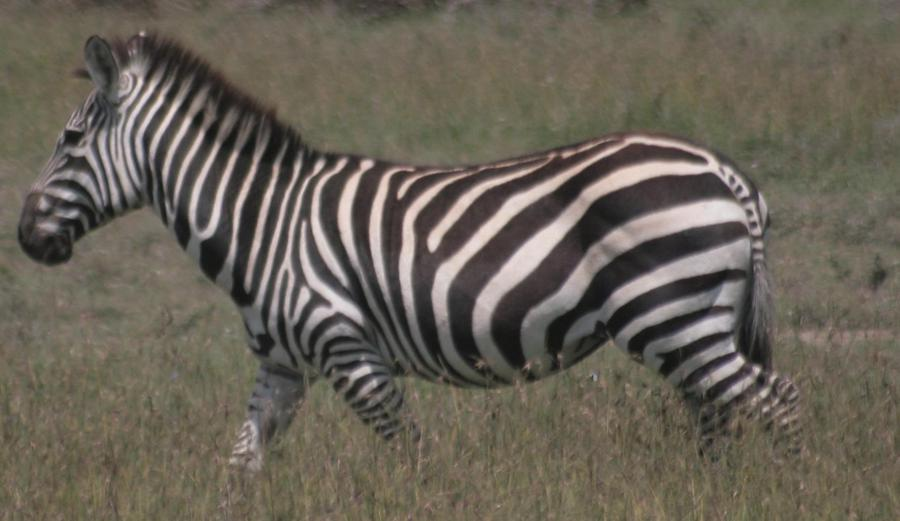zebra_plains: (193, 116, 757, 400)
